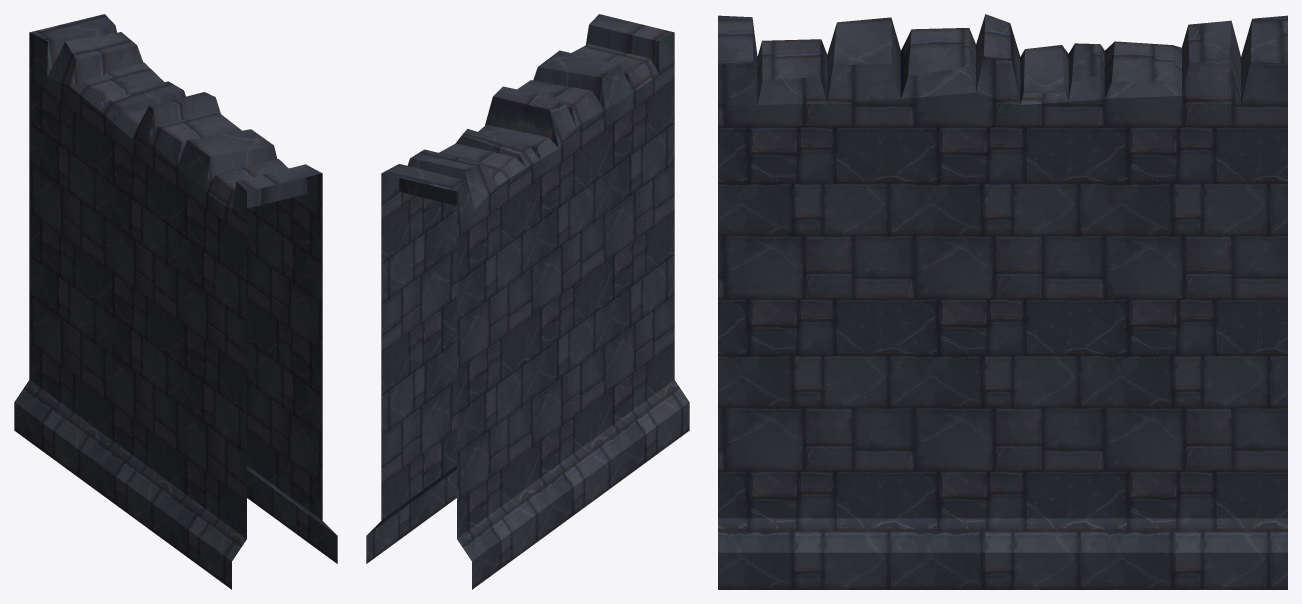
Rendered from Ruins_Wall_003.fbx.
The picture shows the model from 3 angles, left to right: view 1: azimuth 30°, elevation 25°; view 2: azimuth 150°, elevation 25°; view 3: azimuth 270°, elevation 25°; orthographic projection. The views are drawn at different scales.
Parts seen in each view (by area): view 1: Ruins_Wall_003; view 2: Ruins_Wall_003; view 3: Ruins_Wall_003.
Part boxes in pixels (left/top/right/bottom): Ruins_Wall_003: left=14, top=14, right=337, bottom=589; Ruins_Wall_003: left=366, top=14, right=689, bottom=589; Ruins_Wall_003: left=718, top=14, right=1287, bottom=589.
Size of the model in its own units: 1.4 by 5.07 by 5.
Materials: 1 (1 with a texture image).
